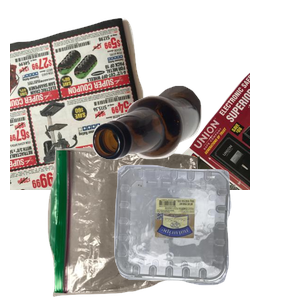glass: (90, 83, 300, 235)
paper: (10, 15, 250, 195)
plastic: (112, 162, 300, 300)
trash: (45, 144, 235, 300)
